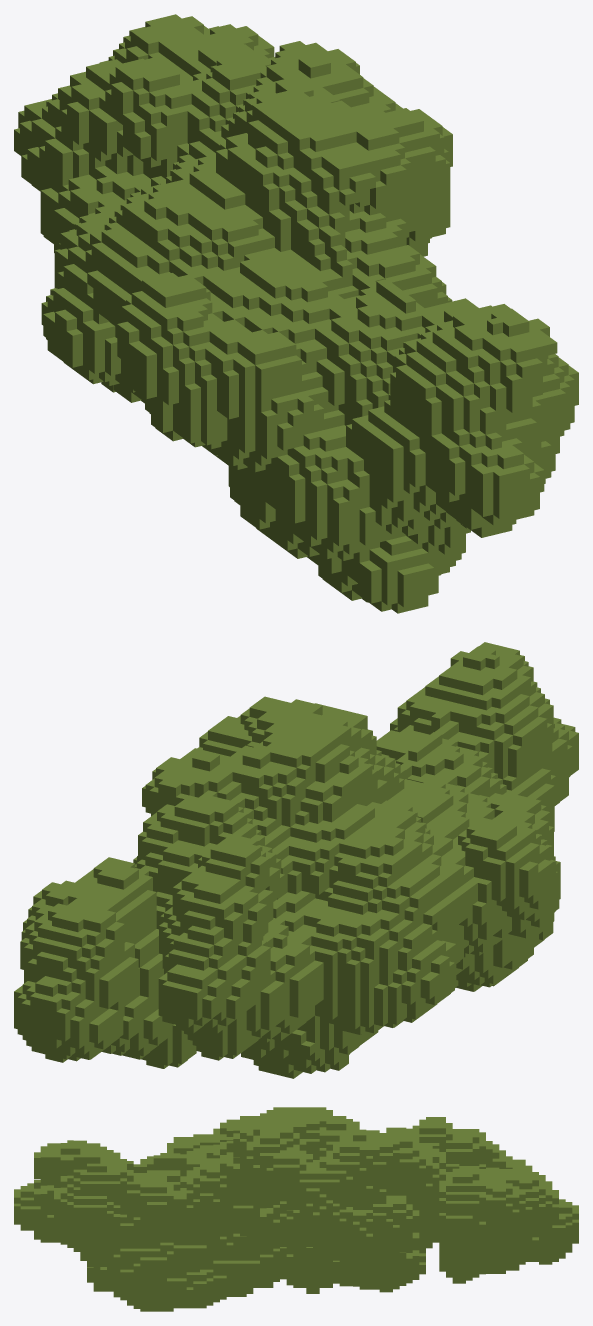
The model's file is forest1.3-2.obj.
The picture shows the model from 3 angles, top to bottom: view 1: azimuth 30°, elevation 25°; view 2: azimuth 150°, elevation 25°; view 3: azimuth 270°, elevation 25°; orthographic projection. The views are drawn at different scales.
Bounding box in the file's own units: 3.6 × 3.4 × 8.5.
1 material, 1 textured.
